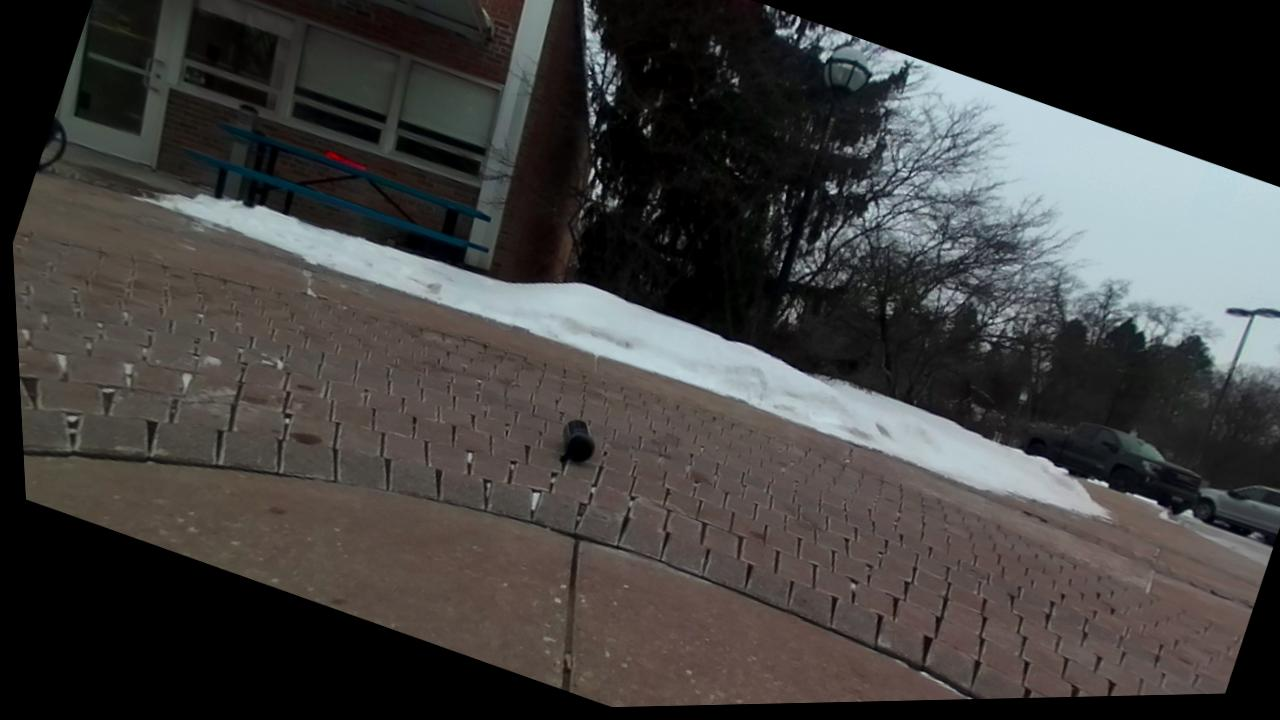bottle: (561, 419, 594, 462)
mallet: (324, 151, 365, 170)
